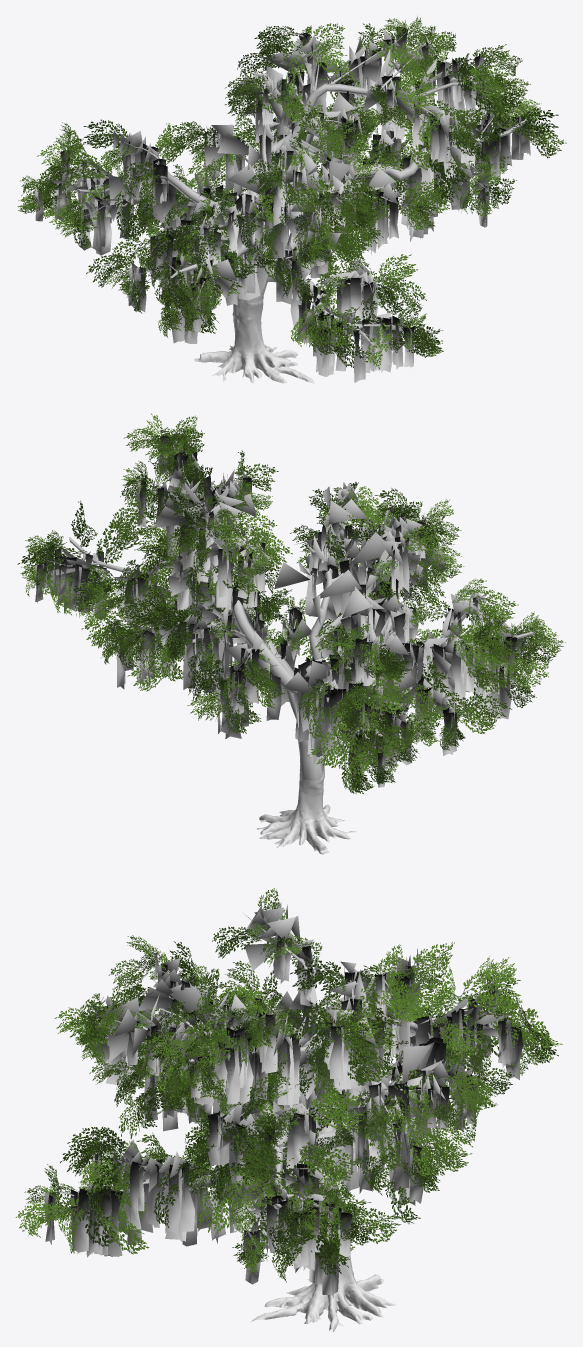
Rendered from modelNew 1.fbx.
3 renders of one model, top to bottom at view 1: azimuth 30°, elevation 25°; view 2: azimuth 150°, elevation 25°; view 3: azimuth 270°, elevation 25°, orthographic. The views are drawn at different scales.
Visible parts, largest first — view 1: MergedTreeNoLeaves1_Diffuse1_0, MergedTreeNoLeaves1_SpanishMoss_03_0, MergedTreeNoLeaves1_Branches_11_0, MergedTreeNoLeaves1_LiveOakBark_0, MergedTreeNoLeaves1_BigTree_baseTexBaked_0; view 2: MergedTreeNoLeaves1_Diffuse1_0, MergedTreeNoLeaves1_SpanishMoss_03_0, MergedTreeNoLeaves1_Branches_11_0, MergedTreeNoLeaves1_LiveOakBark_0, MergedTreeNoLeaves1_BigTree_baseTexBaked_0; view 3: MergedTreeNoLeaves1_Diffuse1_0, MergedTreeNoLeaves1_SpanishMoss_03_0, MergedTreeNoLeaves1_Branches_11_0, MergedTreeNoLeaves1_BigTree_baseTexBaked_0, MergedTreeNoLeaves1_LiveOakBark_0.
Part boxes in pixels (x1,y1,x2,y2): MergedTreeNoLeaves1_Diffuse1_0: (17, 16, 566, 369); MergedTreeNoLeaves1_SpanishMoss_03_0: (34, 26, 530, 382); MergedTreeNoLeaves1_Branches_11_0: (49, 30, 512, 337); MergedTreeNoLeaves1_LiveOakBark_0: (70, 34, 527, 345); MergedTreeNoLeaves1_BigTree_baseTexBaked_0: (194, 298, 314, 383); MergedTreeNoLeaves1_Diffuse1_0: (17, 413, 565, 794); MergedTreeNoLeaves1_SpanishMoss_03_0: (35, 435, 517, 789); MergedTreeNoLeaves1_Branches_11_0: (53, 434, 527, 748); MergedTreeNoLeaves1_LiveOakBark_0: (43, 451, 534, 781); MergedTreeNoLeaves1_BigTree_baseTexBaked_0: (256, 764, 356, 854); MergedTreeNoLeaves1_Diffuse1_0: (15, 888, 562, 1282); MergedTreeNoLeaves1_SpanishMoss_03_0: (44, 934, 523, 1298); MergedTreeNoLeaves1_Branches_11_0: (70, 902, 511, 1248); MergedTreeNoLeaves1_BigTree_baseTexBaked_0: (251, 1245, 395, 1331); MergedTreeNoLeaves1_LiveOakBark_0: (38, 905, 483, 1236).
Bounding box in the file's own units: 401386 × 260367 × 328855.
